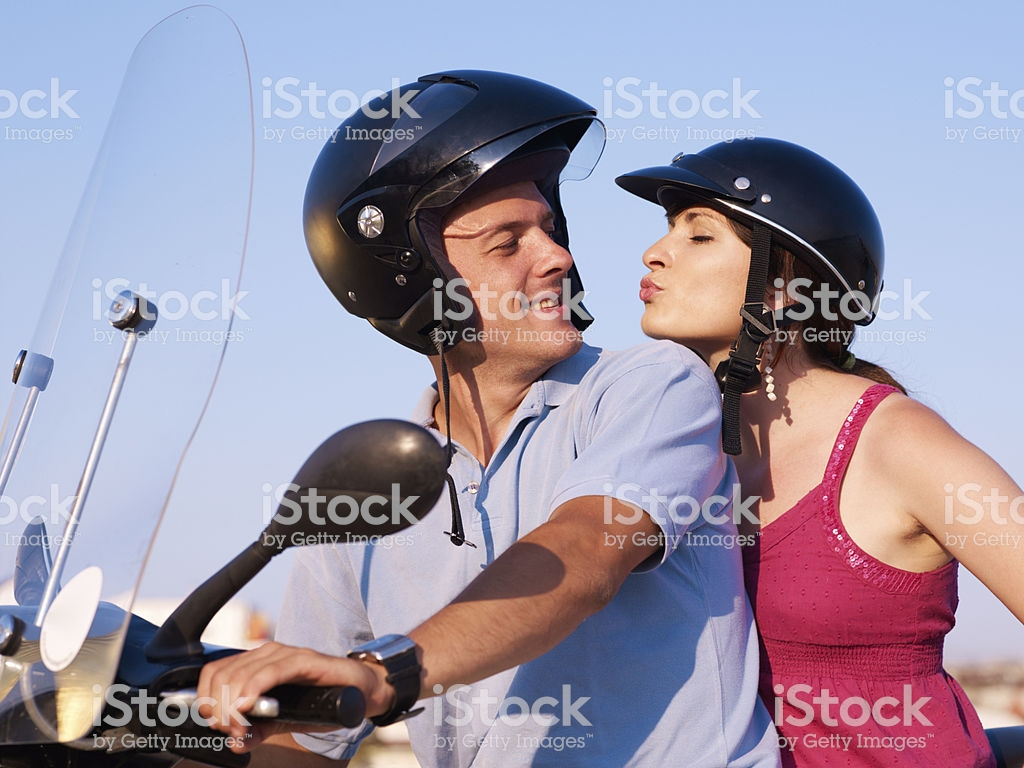helmet: (265, 56, 545, 295), (665, 131, 919, 318)
